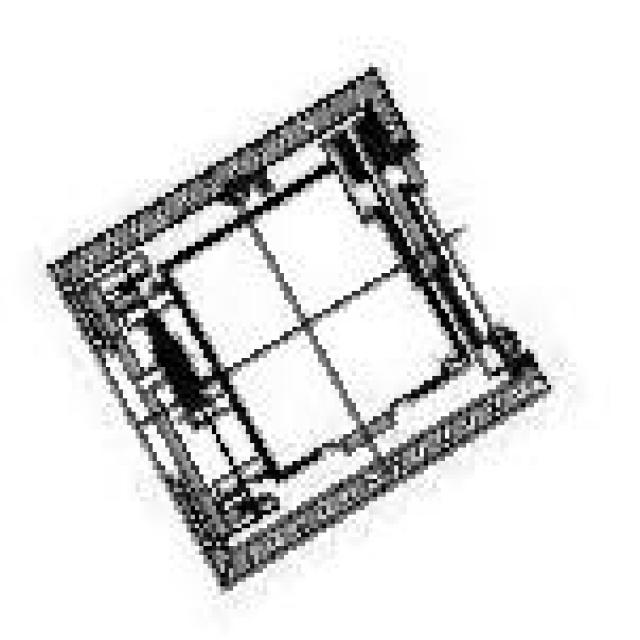lift: (42, 63, 547, 586)
